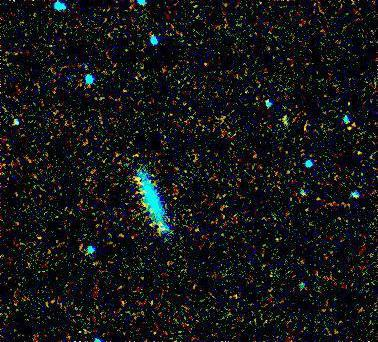star: (336, 108, 366, 138)
